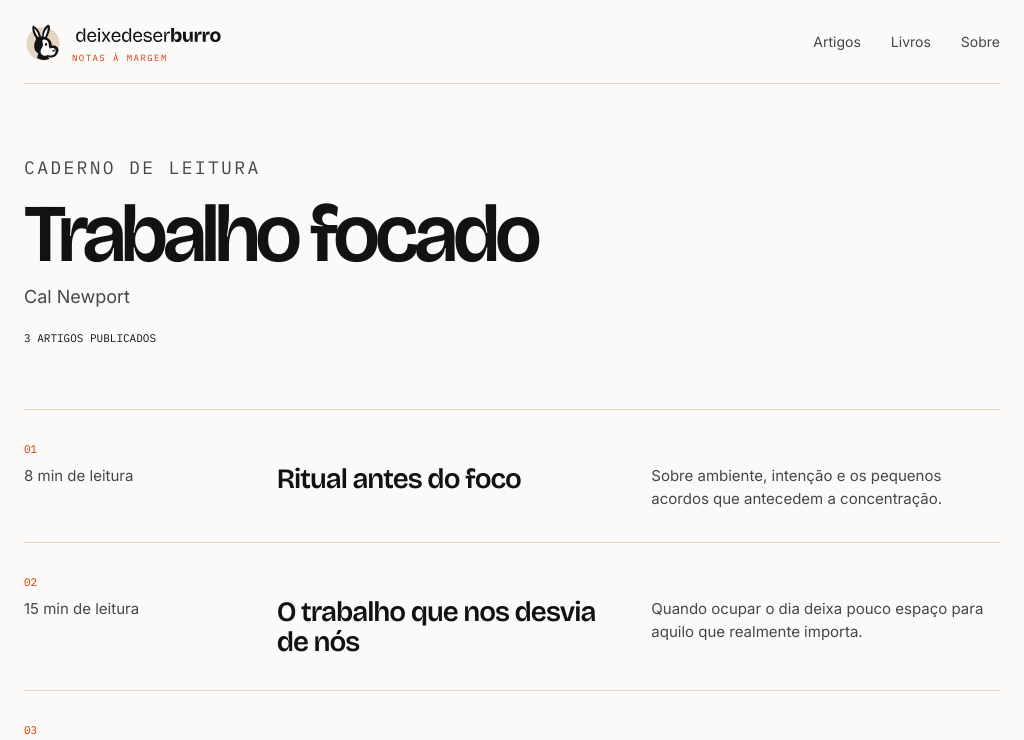
it: navega de um livro publicado para um de seus artigos
What coordinates should you click on to do the following:
click the link "Ritual antes do foco"
I would click on:
 (399, 479)
Its box is [277,462,521,496].
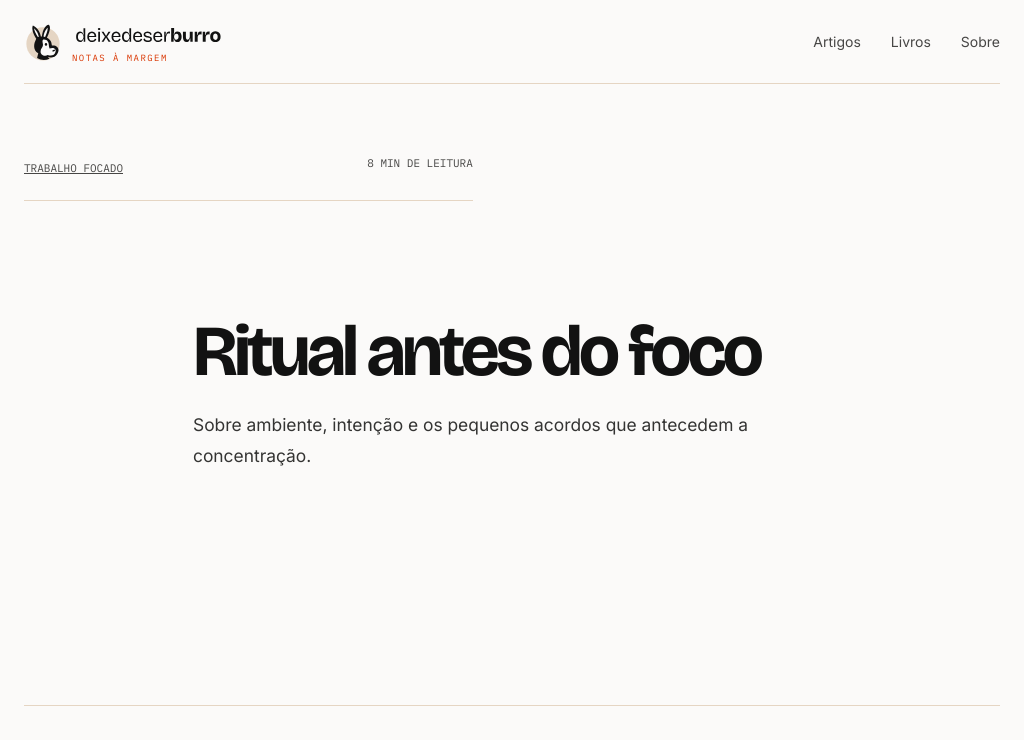
Check: the heading "Ritual antes do foco" is shown, box [193,313,831,390]
